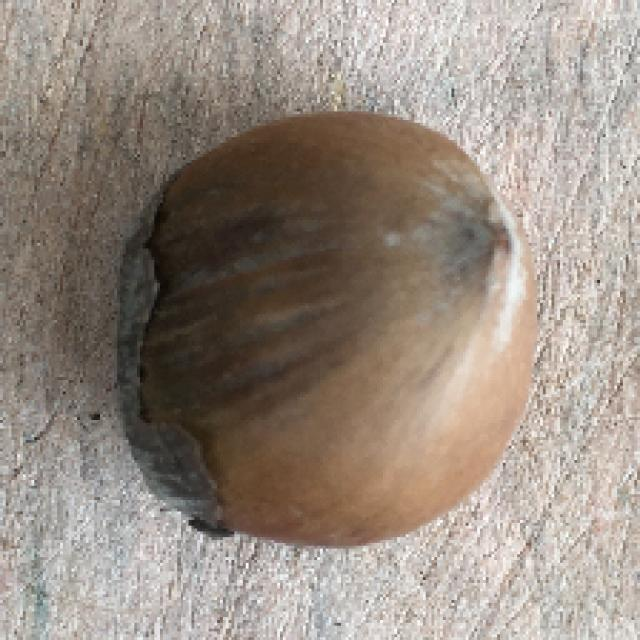damagedHazelnut: (127, 104, 544, 557)
